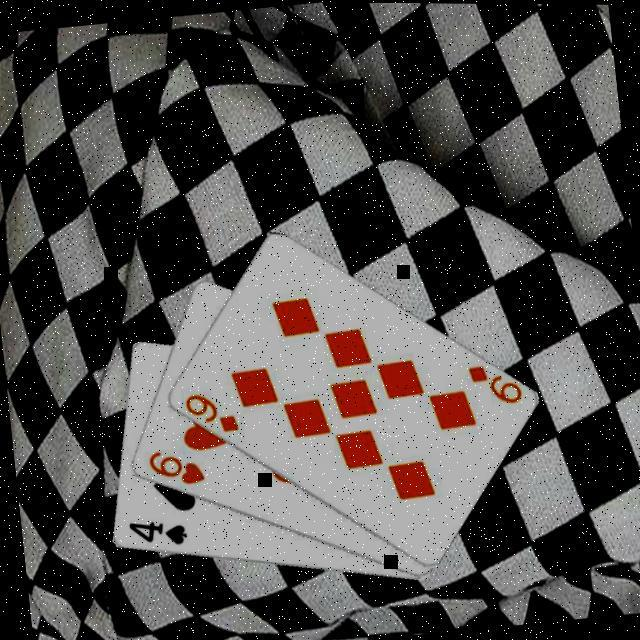4S: (126, 515, 191, 553)
6H: (144, 444, 209, 492)
9D: (180, 386, 243, 440), (464, 357, 527, 411)
